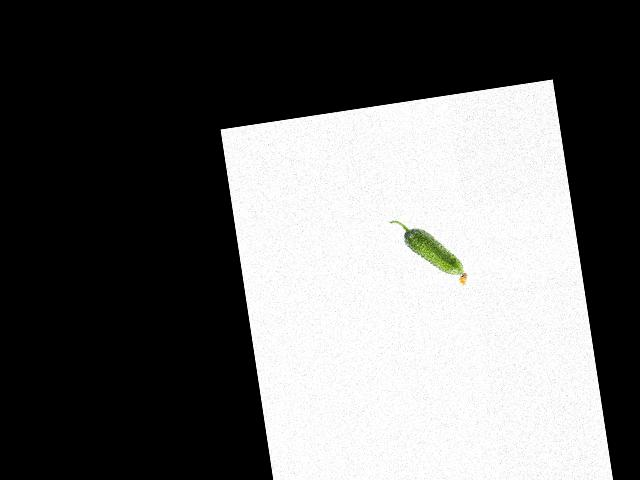cucumber: (389, 211, 468, 295)
